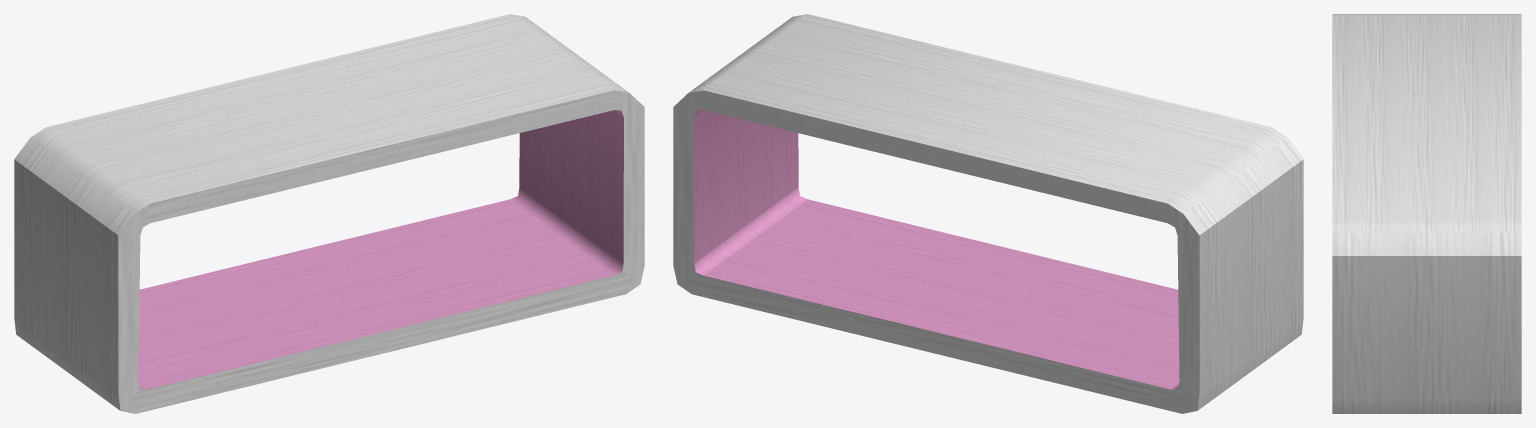
The model's file is Wall_Shelf_01_M.FBX.
3 renders of one model, left to right at view 1: azimuth 30°, elevation 25°; view 2: azimuth 150°, elevation 25°; view 3: azimuth 270°, elevation 25°, orthographic. The views are drawn at different scales.
Visible parts, largest first — view 1: Wall_Shelf; view 2: Wall_Shelf; view 3: Wall_Shelf.
Part boxes in pixels (x1=…): Wall_Shelf: x1=14, y1=14, x2=644, y2=413; Wall_Shelf: x1=673, y1=14, x2=1303, y2=413; Wall_Shelf: x1=1332, y1=14, x2=1521, y2=413.
Bounding box in the file's own units: 160 × 60.21 × 54.97.
